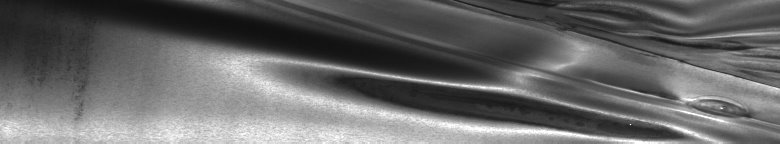ke: (191, 4, 776, 136)
